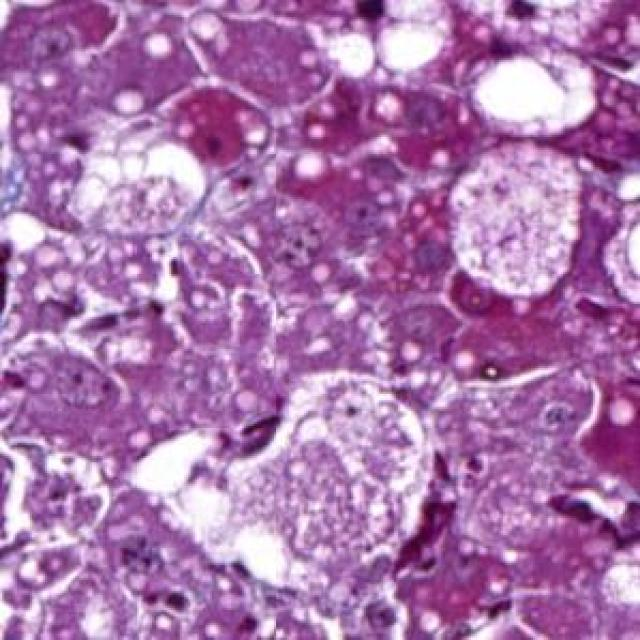ballooning: (62, 122, 210, 240)
